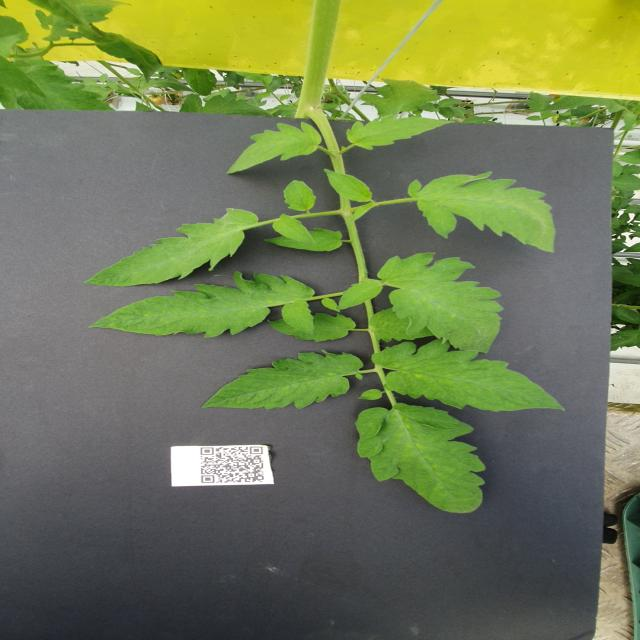Healthy Leaf: (338, 253, 506, 355), (90, 271, 319, 339), (354, 406, 488, 517), (373, 340, 566, 414), (85, 208, 261, 287), (408, 172, 558, 254), (202, 350, 365, 411), (229, 122, 324, 174), (347, 115, 457, 152), (363, 78, 443, 117), (323, 168, 375, 204), (265, 230, 344, 252), (272, 215, 318, 247), (182, 68, 219, 97), (285, 180, 318, 212), (438, 99, 465, 109)
